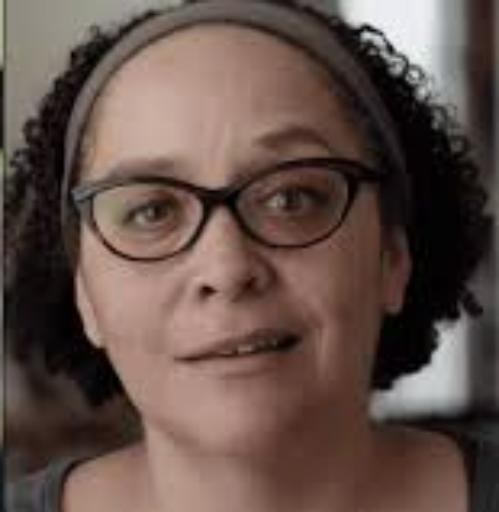left_eye: (258, 182, 326, 221)
left_lip_corner: (279, 331, 307, 358)
right_eye: (122, 200, 180, 231)
right_lip_corner: (171, 349, 197, 371)
